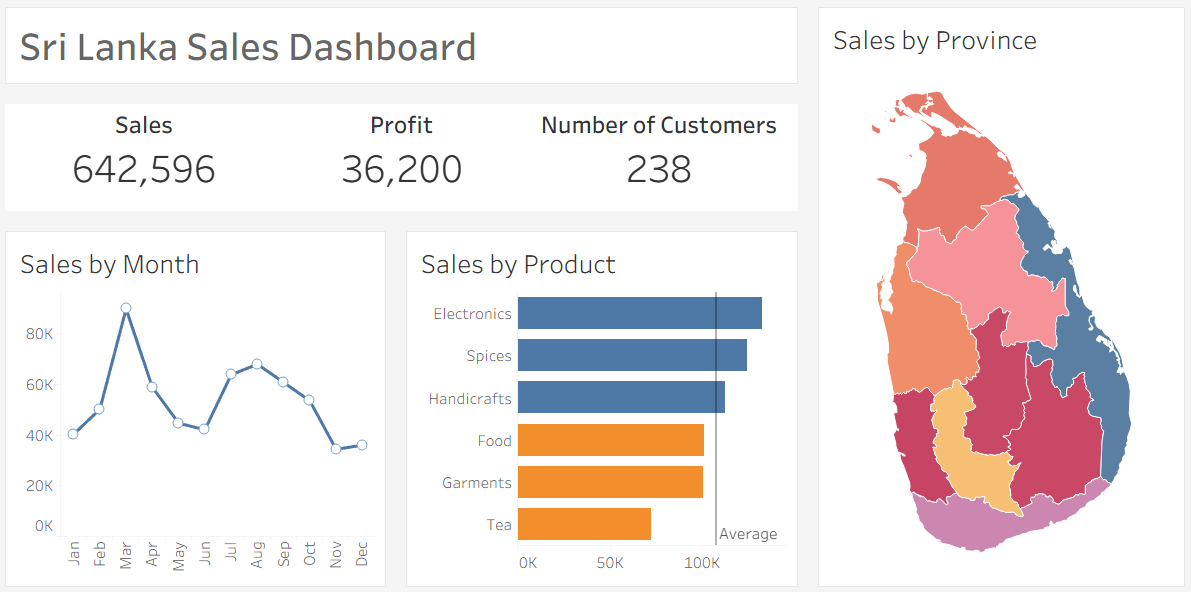

This screenshot's page, from the dashboard's own definition file:
{"tool":"tableau","page":{"name":"Dashboard 1","canvas":[1200,600],"ordinal":0},"visuals":[{"type":"text","box":[0,0,813,97]},{"type":"worksheet","title":"Sales by Province","mark":"Automatic","box":[813,0,387,600]},{"type":"legend","title":"Sales by Province","param":"[federated.00bw31r190ohmc19785w60tpvzzv].[sum:Sales:qk]","box":[1032,8,160,73]},{"type":"legend","title":"Sales by Product","param":"[federated.00bw31r190ohmc19785w60tpvzzv].[usr:Calculation_85849922247856129:nk:1","box":[1032,81,160,72]},{"type":"worksheet","title":"KPIs","mark":"Automatic","box":[0,97,813,127]},{"type":"worksheet","title":"Sales by Month","mark":"Automatic","rows":["Sales","Sales"],"cols":["Order_Date"],"box":[0,224,400.9,376]},{"type":"worksheet","title":"Sales by Product","mark":"Automatic","rows":["Product_Category"],"cols":["Sales"],"box":[400.9,224,412,376]}]}

Visuals, with their boxes in screenshot pixels (x1, y1, x2, y2), scaled from the page's 1200x600 canvas onto the 1191x592 screenshot:
text: region(0, 0, 807, 96)
"Sales by Province" worksheet: region(807, 0, 1190, 591)
"Sales by Province" legend: region(1024, 8, 1183, 80)
"Sales by Product" legend: region(1024, 80, 1183, 151)
"KPIs" worksheet: region(0, 96, 807, 221)
"Sales by Month" worksheet: region(0, 221, 398, 591)
"Sales by Product" worksheet: region(398, 221, 807, 591)
